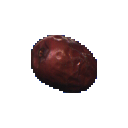gd: (16, 20, 117, 114)
